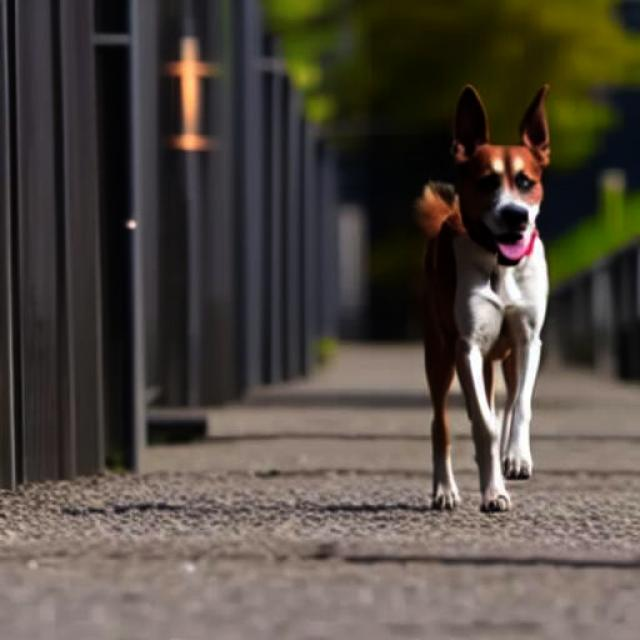Dog: (412, 81, 552, 513)
